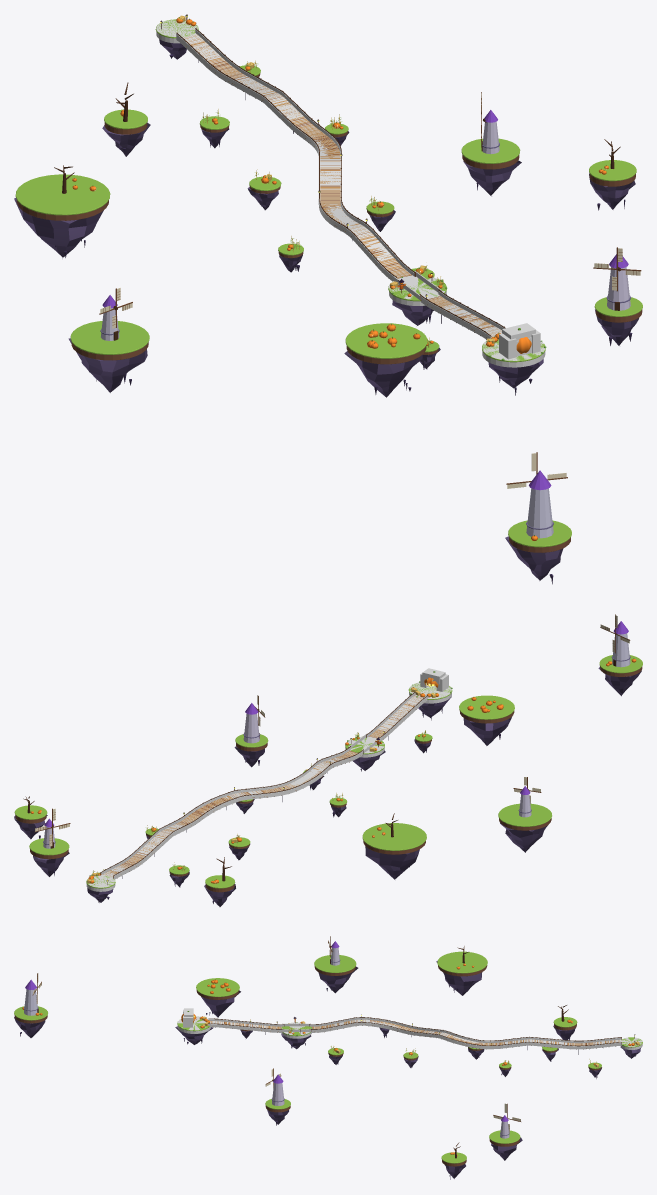
The picture shows the model from 3 angles, top to bottom: view 1: azimuth 30°, elevation 25°; view 2: azimuth 150°, elevation 25°; view 3: azimuth 270°, elevation 25°; orthographic projection. The views are drawn at different scales.
Parts seen in each view (by area): view 1: V_grass, C_0, V_rock, V_dirt, V_plank, V_stone_light, V_beam_dark, V_pumpkin, C_1, V_plank_dark; view 2: V_grass, C_0, V_rock, V_dirt, V_stone_light, V_plank, V_beam_dark, V_pumpkin, C_1; view 3: C_0, V_grass, V_rock, V_dirt, V_beam_dark, V_stone_light, V_plank, V_pumpkin.
Boxes of the visible parts, x1,y1,x2,y2 form: V_grass: (15, 19, 642, 547); C_0: (156, 19, 545, 367); V_rock: (14, 39, 638, 580); V_dirt: (16, 73, 642, 552); V_plank: (184, 34, 501, 337); V_stone_light: (101, 121, 630, 538); V_beam_dark: (54, 14, 620, 340); V_pumpkin: (72, 18, 608, 540); C_1: (499, 323, 540, 359); V_plank_dark: (196, 45, 494, 329); V_grass: (14, 655, 642, 888); C_0: (86, 682, 451, 891); V_rock: (14, 667, 641, 906); V_dirt: (15, 666, 642, 892); V_stone_light: (43, 633, 630, 848); V_plank: (103, 696, 422, 876); V_beam_dark: (23, 660, 615, 884); V_pumpkin: (30, 659, 636, 883); C_1: (420, 668, 448, 691); C_0: (177, 1016, 642, 1049); V_grass: (14, 951, 642, 1163); V_rock: (14, 961, 640, 1178); V_dirt: (14, 965, 601, 1166); V_beam_dark: (37, 946, 634, 1158); V_stone_light: (24, 947, 509, 1138); V_plank: (211, 1020, 621, 1047); V_pumpkin: (22, 963, 636, 1155).
Bounding box in the file's own units: 147 × 36.72 × 224.
